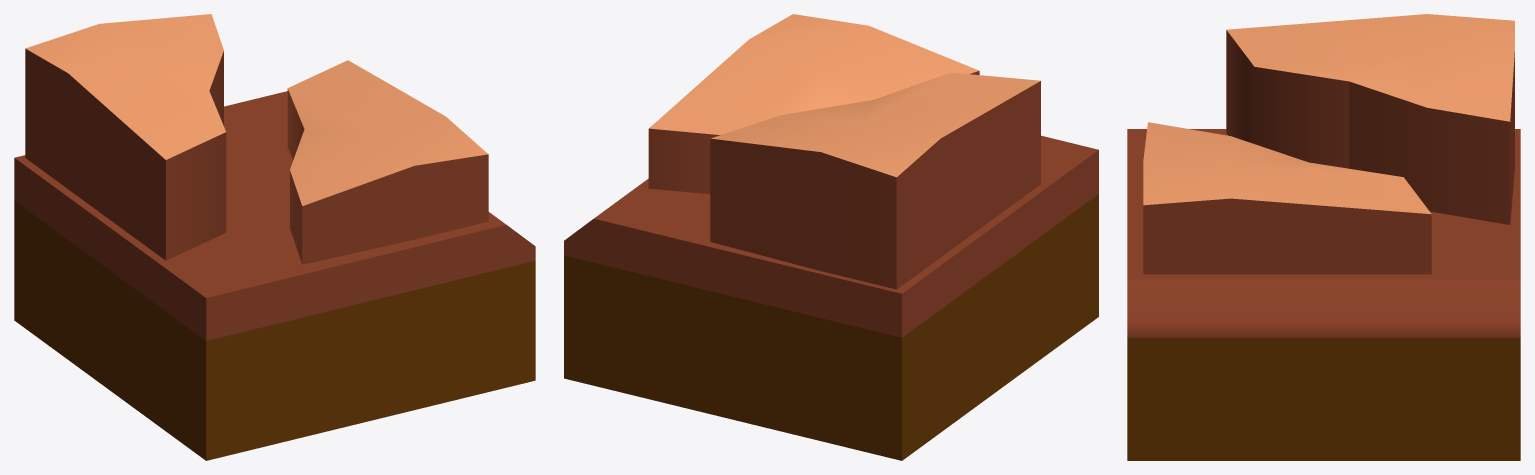
Rendered from Cliffs01.fbx.
3 views of the same model, side by side, from view 1: azimuth 30°, elevation 25°; view 2: azimuth 150°, elevation 25°; view 3: azimuth 270°, elevation 25° (orthographic). The views are drawn at different scales.
Visible parts, largest first — view 1: Cliffs01; view 2: Cliffs01; view 3: Cliffs01.
Part boxes in pixels (x1=…): Cliffs01: x1=14, y1=14, x2=535, y2=460; Cliffs01: x1=564, y1=14, x2=1098, y2=460; Cliffs01: x1=1127, y1=14, x2=1520, y2=460.
Size of the model in its own units: 96.18 by 77.82 by 97.03.
Materials: 1 (1 with a texture image).
